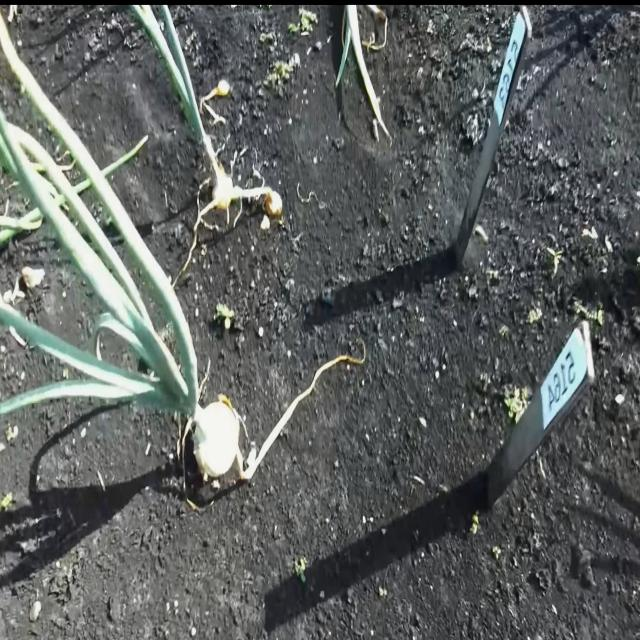onion: (192, 395, 242, 482)
